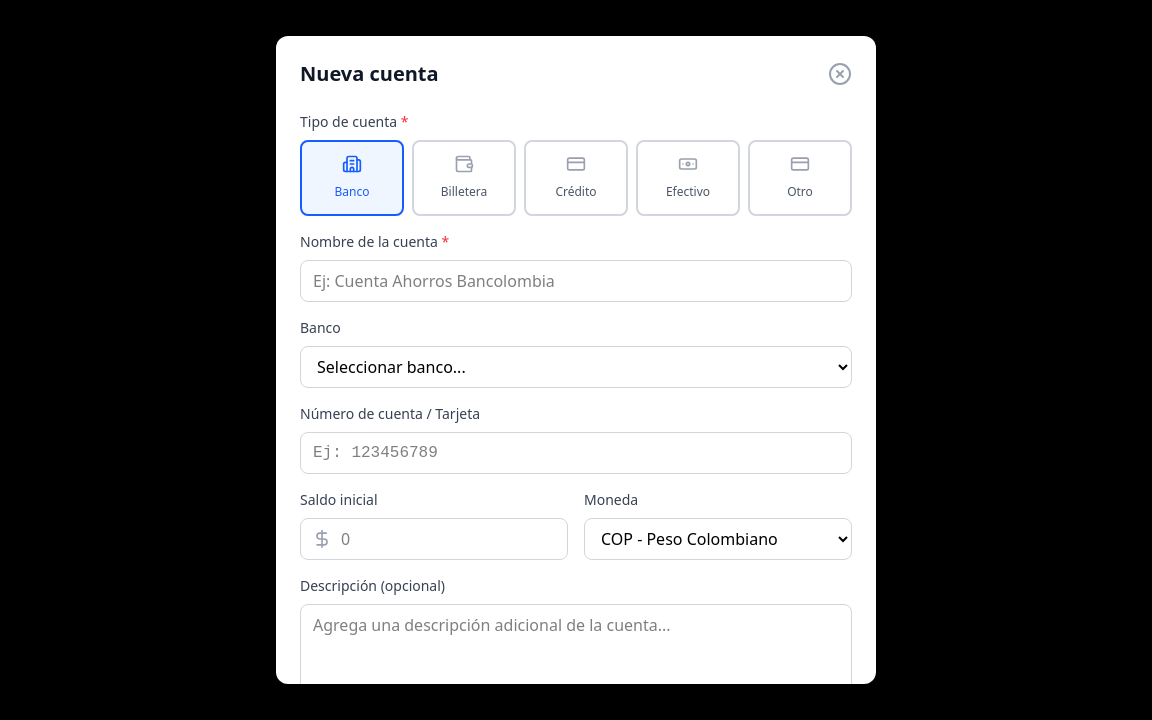
NewAccountModal › debe manejar el guardado de cuenta con todos los campos
The width and height of the screenshot is (1152, 720).
Type "Cuenta Completa" into the field with placeholder "Ej: Cuenta Ahorros Bancolombia" at x=576, y=281, box [300,260,852,302]
(page scrolled)
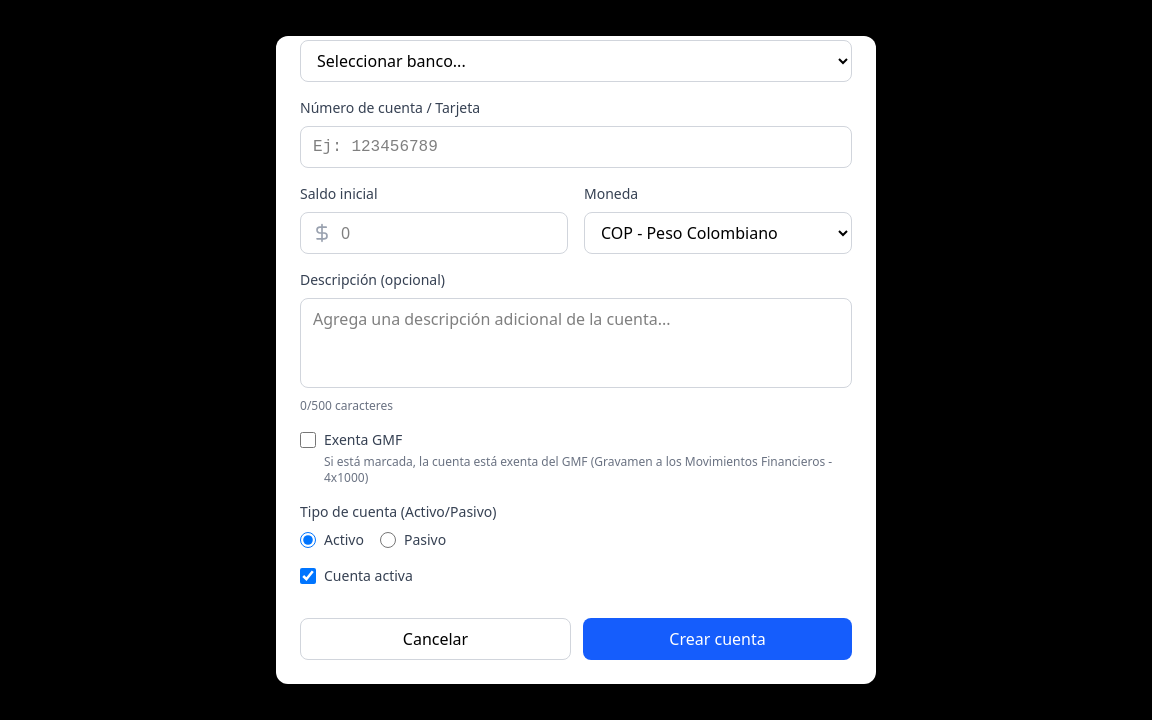
expect the button "Crear cuenta" is shown: met, box [583,618,852,660]
